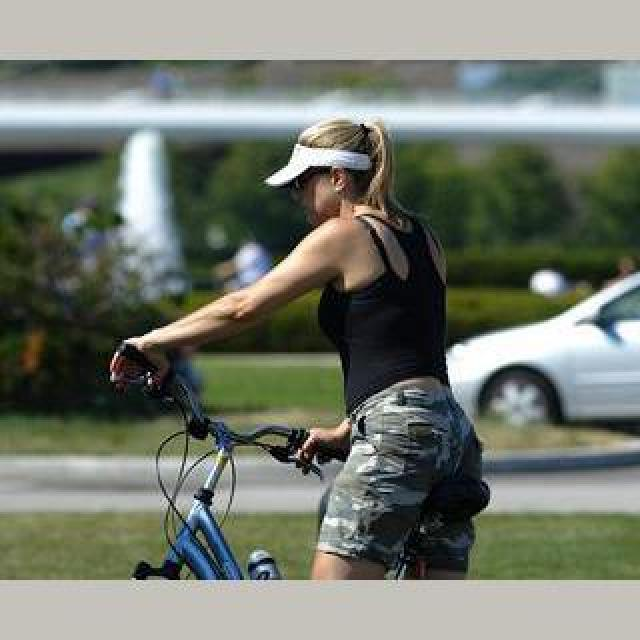Bus-Bike: (448, 272, 640, 430)
MC-Bike: (116, 110, 468, 574)
Person: (110, 346, 328, 580)
